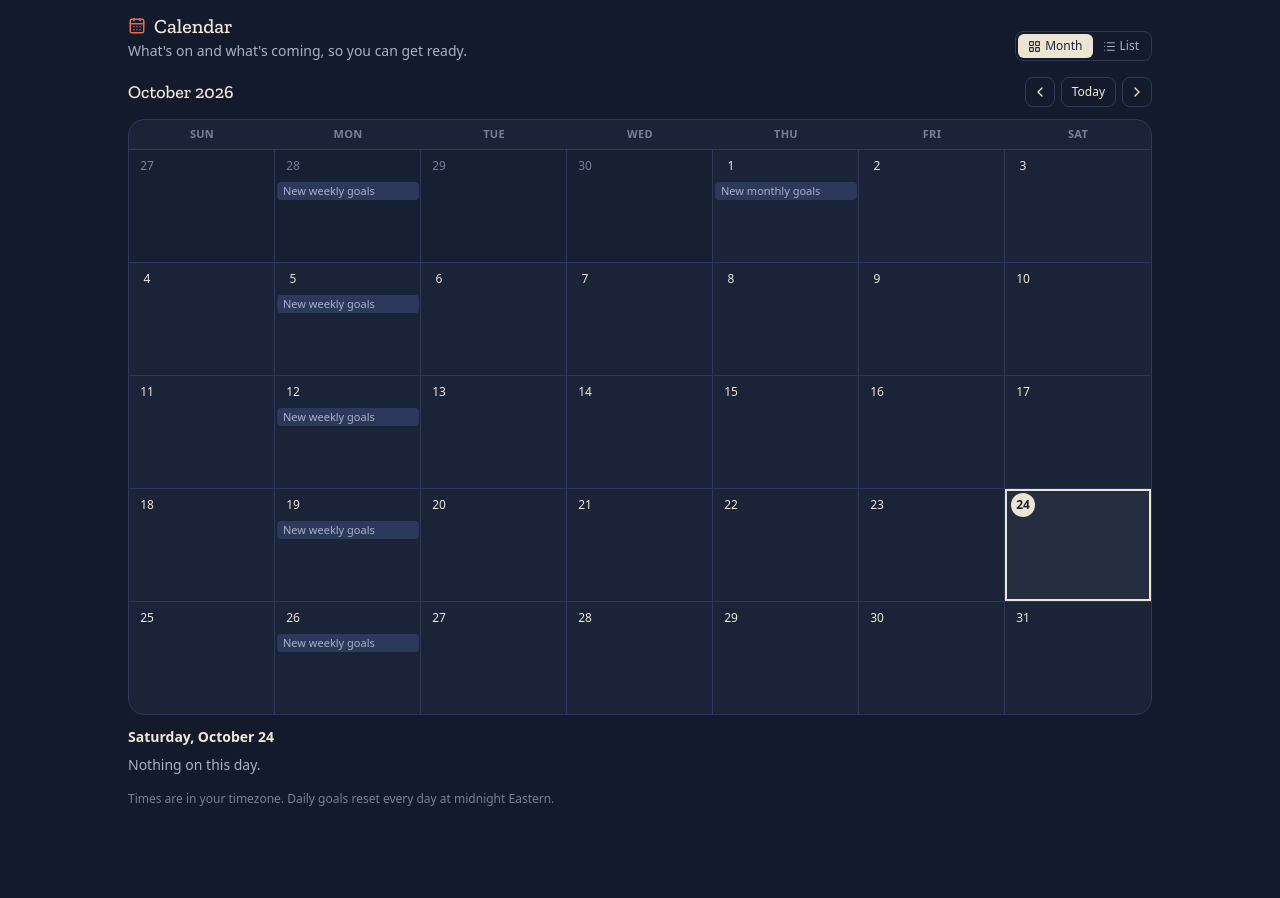
Test: CalendarPage › lists what's on now and what's coming, with how to get ready
Click the button "List": (1121, 46) [1092,34,1149,58]
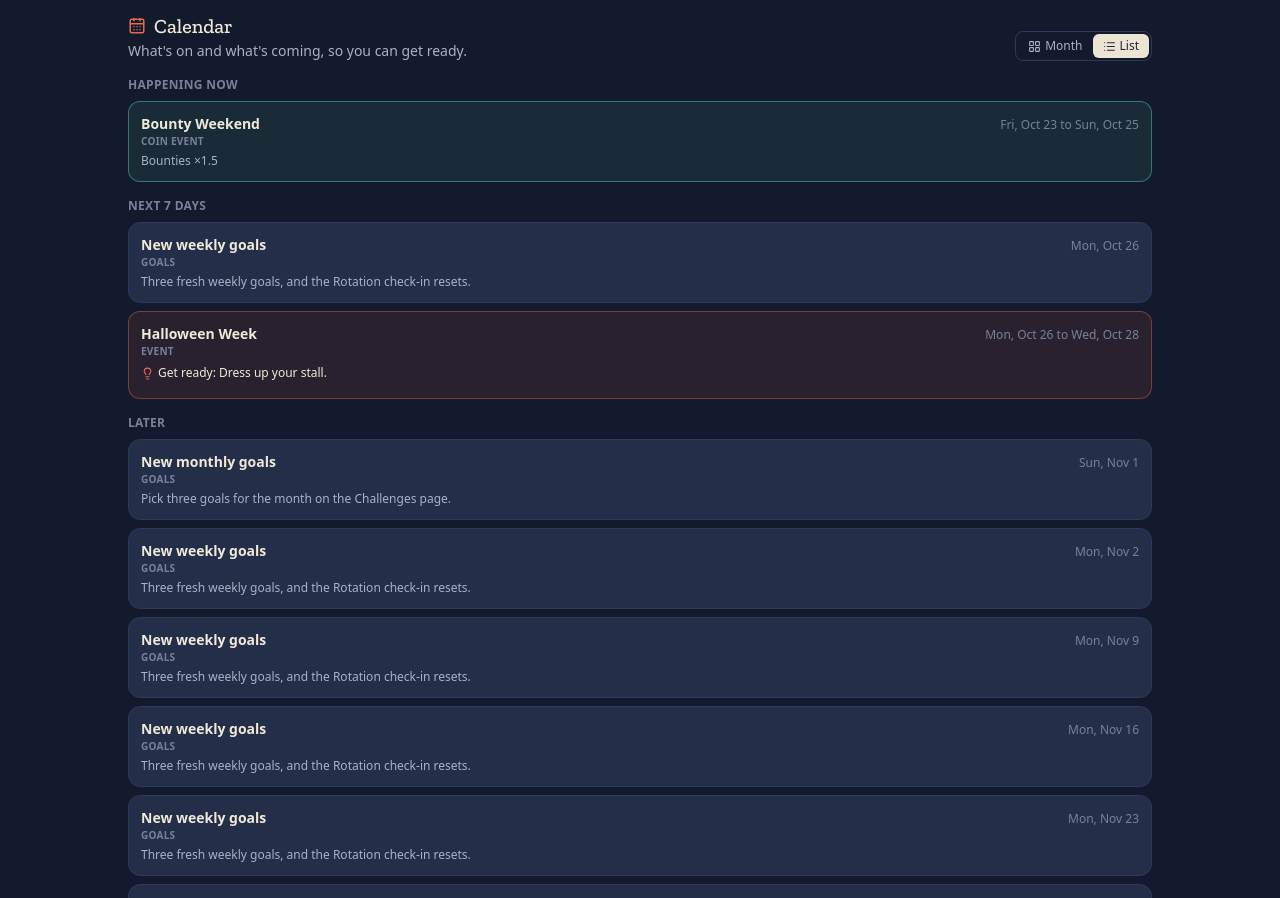
Check: the text "Bounty Weekend" is shown, box [141,114,260,134]
Check: the text "Halloween Week" is shown, box [141,324,257,344]
Check: the text "Get ready: Dress up your stall." is shown, box [141,365,327,381]
